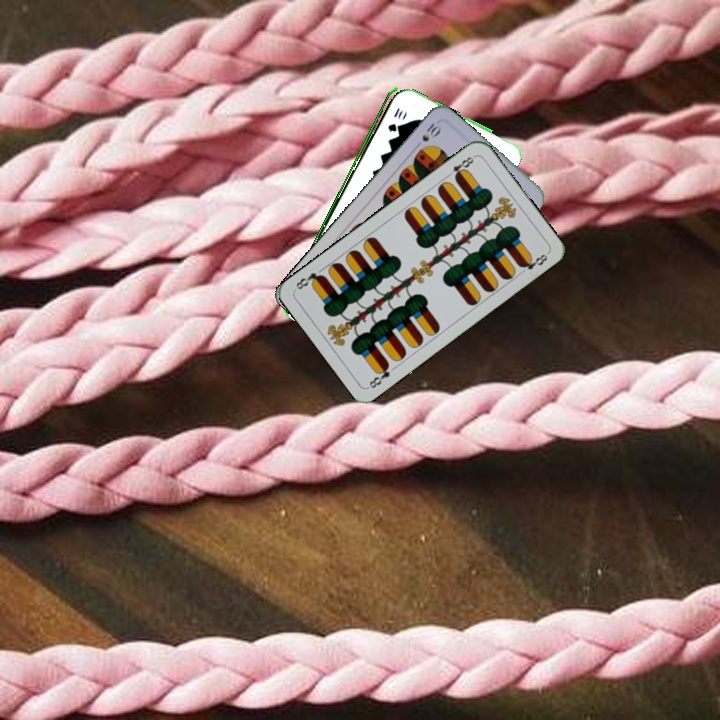E8: (442, 152, 478, 182), (365, 359, 393, 391)
G10: (384, 104, 402, 134)
S10: (418, 119, 444, 144)
